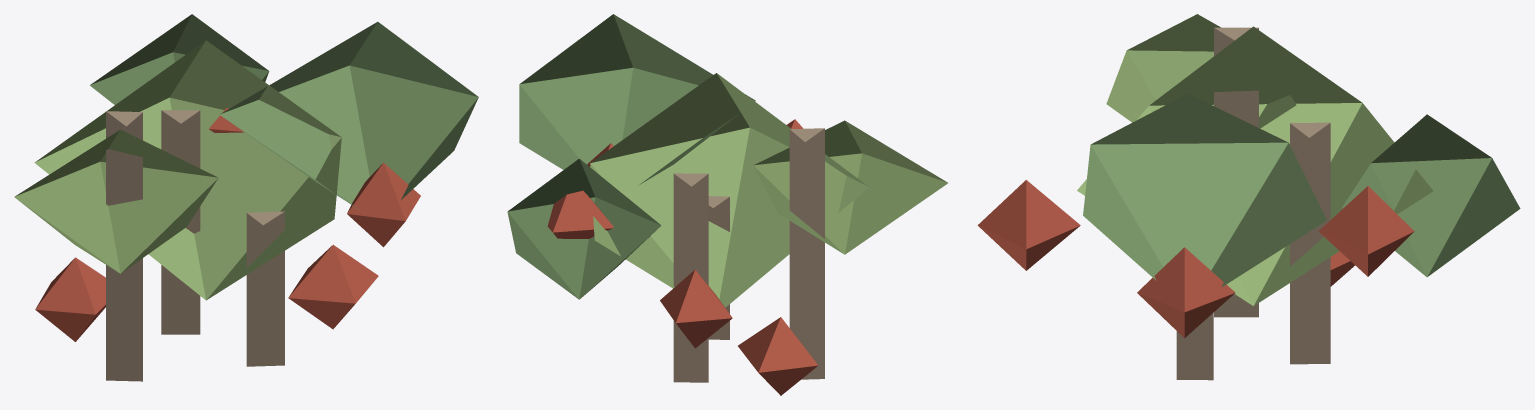
Rendered from shrub.temp.blueberry__spring.glb.
3 renders of one model, left to right at view 1: azimuth 30°, elevation 25°; view 2: azimuth 150°, elevation 25°; view 3: azimuth 270°, elevation 25°, orthographic. The views are drawn at different scales.
Parts seen in each view (by area): view 1: shrub.temp.blueberry__spring; view 2: shrub.temp.blueberry__spring; view 3: shrub.temp.blueberry__spring.
Part boxes in pixels (x1,y1,x2,y2): shrub.temp.blueberry__spring: (14, 14, 478, 381); shrub.temp.blueberry__spring: (507, 14, 947, 395); shrub.temp.blueberry__spring: (977, 14, 1520, 380).
Bounding box in the file's own units: 1.27 × 0.9096 × 1.28.
